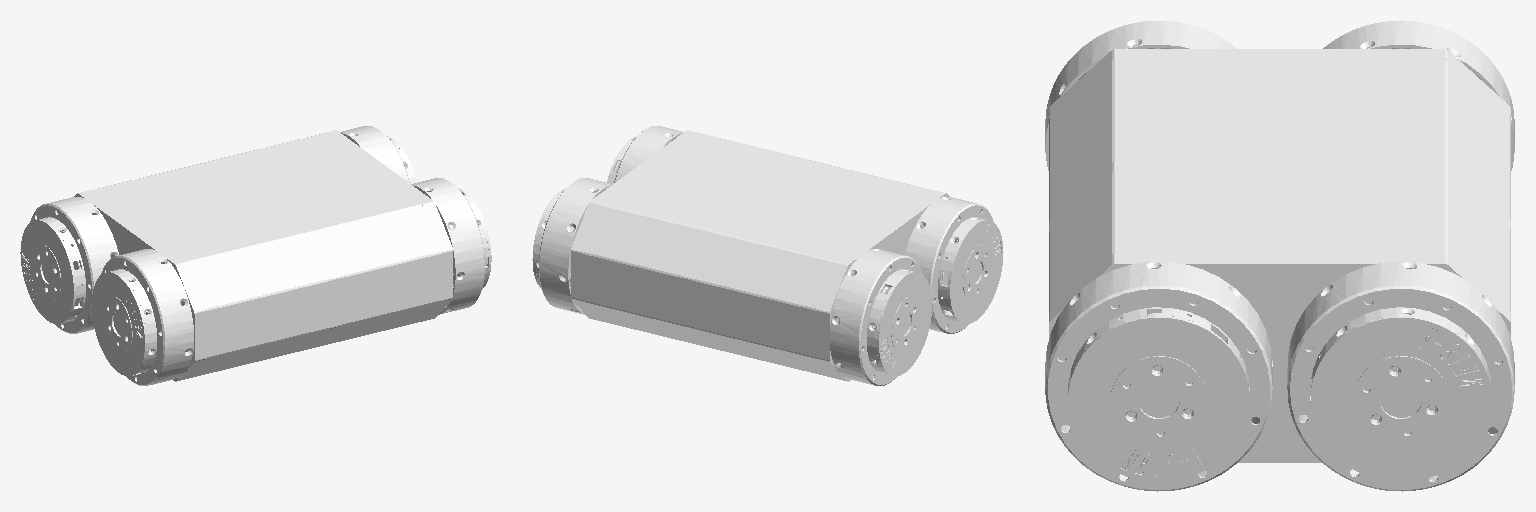
The robot description file, URDF, robot "cheetah_model":
<?xml version="1.0" ?>
<robot name="cheetah_model" >

  <link name="world_link"/>

  <joint name="world_joint" type="fixed">
    <parent link="world_link" />
    <child link="body_link" />
  </joint>

  <link name="body_link">
    <inertial>
      <origin xyz="4.7665E-11 -9.774E-11 7.8204E-09" rpy="0 0 0" />
      <mass value="25.117" />
      <inertia ixx="1.9268" ixy="2.1744E-07" ixz="6.0623E-11"
        iyy="0.39868" iyz="-7.9898E-07" izz="2.1621" />
    </inertial>
    <visual>
      <origin xyz="0 0 0" rpy="0 0 0" />
      <geometry>
        <mesh filename="package://cheetah_model/meshes/body_link.STL" />
      </geometry>
      <material name="">
        <color rgba="1 1 1 1" />
      </material>
    </visual>
    <collision>
      <origin xyz="0 0 0" rpy="0 0 0" />
      <geometry>
        <mesh filename="package://cheetah_model/meshes/body_link.STL" />
      </geometry>
    </collision>
  </link>
  <link name="LF_shoulder_link">
    <inertial>
      <origin xyz="-0.050197 1.6579E-09 0.025721" rpy="0 0 0" />
      <mass value="3.2973" />
      <inertia ixx="0.0075672" ixy="5.1432E-09" ixz="-3.4681E-09"
        iyy="0.0078331" iyz="2.7873E-09" izz="0.0045551" />
    </inertial>
    <visual>
      <origin xyz="0 0 0" rpy="0 0 0" />
      <geometry>
        <mesh filename="package://cheetah_model/meshes/LF_shoulder_link.STL" />
      </geometry>
      <material name="">
        <color rgba="1 0 0 1" />
      </material>
    </visual>
    <collision>
      <origin xyz="0 0 0" rpy="0 0 0" />
      <geometry>
        <mesh filename="package://cheetah_model/meshes/LF_shoulder_link.STL" />
      </geometry>
    </collision>
  </link>
  <joint name="body_to_LF_shoulder" type="revolute">
    <origin xyz="0.2 -0.3498 0" rpy="1.5708 0 1.5708" />
    <parent link="body_link" />
    <child link="LF_shoulder_link" />
    <axis xyz="1 0 0" />
    <limit lower="-1.57" upper="1.57"
      effort="0.0" velocity="1.0" />
    <dynamics damping="1" friction="1" />
  </joint>

  <link name="LF_hip_link">
    <inertial>
      <origin xyz="-0.05 -0.1259 0" rpy="0 0 0" />
      <mass value="9.0227" />
      <inertia ixx="0.13447" ixy="2.7733E-17" ixz="-4.1134E-18"
        iyy="0.020174" iyz="2.5177E-17" izz="0.13014" />
    </inertial>
    <visual>
      <origin xyz="0 0 0" rpy="0 0 0" />
      <geometry>
        <mesh filename="package://cheetah_model/meshes/LF_hip_link.STL" />
      </geometry>
      <material name="">
        <color rgba="0 1 0 1" />
      </material>
    </visual>
    <collision>
      <origin xyz="0 0 0" rpy="0 0 0" />
      <geometry>
        <mesh filename="package://cheetah_model/meshes/LF_hip_link.STL" />
      </geometry>
    </collision>
  </link>
  <joint name="LF_shoulder_to_LF_hip" type="revolute">
    <origin xyz="-0.050197 0 0.1" rpy="0 1.5708 0" />
    <parent link="LF_shoulder_link" />
    <child link="LF_hip_link" />
    <axis xyz="-1 0 0" />
    <limit lower="-3.14" upper="3.14"
      effort="0.0" velocity="1.0" />
    <dynamics damping="1" friction="1" />
  </joint>

  <link name="LF_knee_link">
    <inertial>
      <origin xyz="-0.0325 -0.1327 7.0855E-10" rpy="0 0 0" />
      <mass value="2.9673" />
      <inertia ixx="0.041846" ixy="1.8339E-10" ixz="3.4138E-09"
        iyy="0.0022039" iyz="3.2982E-10" izz="0.041328" />
    </inertial>
    <visual>
      <origin xyz="0 0 0" rpy="0 0 0" />
      <geometry>
        <mesh filename="package://cheetah_model/meshes/LF_knee_link.STL" />
      </geometry>
      <material name="">
        <color rgba="0 0 1 1" />
      </material>
    </visual>
    <collision>
      <origin xyz="0 0 0" rpy="0 0 0" />
      <geometry>
        <mesh filename="package://cheetah_model/meshes/LF_knee_link.STL" />
      </geometry>
    </collision>
  </link>
  <joint name="LF_hip_to_LF_knee" type="revolute">
    <origin xyz="-0.0175 -0.35 0" rpy="0 0 0" />
    <parent link="LF_hip_link" />
    <child link="LF_knee_link" />
    <axis xyz="-1 0 0" />
    <limit lower="-3.14" upper="3.14"
      effort="0.0" velocity="1.0" />
    <dynamics damping="1" friction="1" />
  </joint>

  <link name="RF_shoulder_link">
    <inertial>
      <origin xyz="-0.050197 4.7329E-09 0.025721" rpy="0 0 0" />
      <mass value="3.2973" />
      <inertia ixx="0.0075672" ixy="6.0059E-09" ixz="-3.3928E-09"
        iyy="0.0078331" iyz="2.6669E-09" izz="0.0045551" />
    </inertial>
    <visual>
      <origin xyz="0 0 0" rpy="0 0 0" />
      <geometry>
        <mesh filename="package://cheetah_model/meshes/RF_shoulder_link.STL" />
      </geometry>
      <material name="">
        <color rgba="1 0 0 1" />
      </material>
    </visual>
    <collision>
      <origin xyz="0 0 0" rpy="0 0 0" />
      <geometry>
        <mesh filename="package://cheetah_model/meshes/RF_shoulder_link.STL" />
      </geometry>
    </collision>
  </link>
  <joint name="body_to_RF_shoulder" type="revolute">
    <origin xyz="-0.2 -0.3498 0" rpy="-1.5708 0 1.5708" />
    <parent link="body_link" />
    <child link="RF_shoulder_link" />
    <axis xyz="-1 0 0" />
    <limit lower="-1.57" upper="1.57"
      effort="0.0" velocity="1.0" />
    <dynamics damping="1" friction="1" />
  </joint>

  <link name="RF_hip_link">
    <inertial>
      <origin xyz="-0.05 -0.125901750874251 0" rpy="0 0 0" />
      <mass value="9.02267120345913" />
      <inertia ixx="0.134474751410522" ixy="-1.00856843872561E-18" ixz="-3.2778892928792E-18"
        iyy="0.0201741931777721" iyz="-2.89770588449339E-18" izz="0.130137705098105" />
    </inertial>
    <visual>
      <origin xyz="0 0 0" rpy="0 0 0" />
      <geometry>
        <mesh filename="package://cheetah_model/meshes/RF_hip_link.STL" />
      </geometry>
      <material name="">
        <color rgba="0 1 0 1" />
      </material>
    </visual>
    <collision>
      <origin xyz="0 0 0" rpy="0 0 0" />
      <geometry>
        <mesh filename="package://cheetah_model/meshes/RF_hip_link.STL" />
      </geometry>
    </collision>
  </link>
  <joint name="RF_shoulder_to_RF_hip" type="revolute">
    <origin xyz="-0.050197 0 0.1" rpy="3.1416 1.5708 0" />
    <parent link="RF_shoulder_link" />
    <child link="RF_hip_link" />
    <axis xyz="1 0 0" />
    <limit lower="-3.14" upper="3.14"
           effort="0.0" velocity="1.0" />
    <dynamics damping="1" friction="1" />
  </joint>

  <link name="RF_knee_link">
    <inertial>
      <origin xyz="-0.0324999996259642 -0.132703983194415 7.08550385031259E-10" rpy="0 0 0" />
      <mass value="2.96729116852791" />
      <inertia ixx="0.0418458834907561" ixy="1.83391853856617E-10" ixz="3.41384812112721E-09"
        iyy="0.00220392060914795" iyz="3.29819463915723E-10" izz="0.041327893755322" />
    </inertial>
    <visual>
      <origin xyz="0 0 0" rpy="0 0 0" />
      <geometry>
        <mesh filename="package://cheetah_model/meshes/RF_knee_link.STL" />
      </geometry>
      <material name="">
        <color rgba="0 0 1 1" />
      </material>
    </visual>
    <collision>
      <origin xyz="0 0 0" rpy="0 0 0" />
      <geometry>
        <mesh filename="package://cheetah_model/meshes/RF_knee_link.STL" />
      </geometry>
    </collision>
  </link>
  <joint name="RF_hip_to_RF_knee" type="revolute">
    <origin xyz="-0.0175 -0.35 0" rpy="0 0 0" />
    <parent link="RF_hip_link" />
    <child link="RF_knee_link" />
    <axis xyz="1 0 0" />
    <limit lower="-3.14" upper="3.14"
      effort="0.0" velocity="1.0" />
    <dynamics damping="1" friction="1" />
  </joint>

  <link name="LH_shoulder_link">
    <inertial>
      <origin xyz="-0.0501973749554487 -4.56687991009661E-09 -0.025721456770399" rpy="0 0 0" />
      <mass value="3.29729555848642" />
      <inertia ixx="0.00756715122480539" ixy="-5.34881333358175E-09" ixz="3.67813128999948E-09"
        iyy="0.00783306249669744" iyz="2.67306826420829E-09" izz="0.00455513672380048" />
    </inertial>
    <visual>
      <origin xyz="0 0 0" rpy="0 0 0" />
      <geometry>
        <mesh filename="package://cheetah_model/meshes/LH_shoulder_link.STL" />
      </geometry>
      <material name="">
        <color rgba="1 0 0 1" />
      </material>
    </visual>
    <collision>
      <origin xyz="0 0 0" rpy="0 0 0" />
      <geometry>
        <mesh filename="package://cheetah_model/meshes/LH_shoulder_link.STL" />
      </geometry>
    </collision>
  </link>
  <joint name="body_to_LH_shoulder" type="revolute">
    <origin xyz="0.2 0.3498 0" rpy="1.5708 0 -1.5708" />
    <parent link="body_link" />
    <child link="LH_shoulder_link" />
    <axis xyz="1 0 0" />
    <limit lower="-1.57" upper="1.57"
      effort="0.0" velocity="1.0" />
    <dynamics damping="1" friction="1" />
  </joint>

  <link name="LH_hip_link">
    <inertial>
      <origin xyz="-0.05 -0.125901750874251 -5.55111512312578E-17" rpy="0 0 0" />
      <mass value="9.02267120345913" />
      <inertia ixx="0.134474751410522" ixy="3.07558660643736E-17" ixz="-7.77149275029767E-18"
        iyy="0.0201741931777721" iyz="1.96934042288402E-17" izz="0.130137705098105" />
    </inertial>
    <visual>
      <origin xyz="0 0 0" rpy="0 0 0" />
      <geometry>
        <mesh filename="package://cheetah_model/meshes/LH_hip_link.STL" />
      </geometry>
      <material name="">
        <color rgba="0 1 0 1" />
      </material>
    </visual>
    <collision>
      <origin xyz="0 0 0" rpy="0 0 0" />
      <geometry>
        <mesh filename="package://cheetah_model/meshes/LH_hip_link.STL" />
      </geometry>
    </collision>
  </link>
  <joint name="LH_shoulder_to_LH_hip" type="revolute">
    <origin xyz="-0.050197 0 -0.1" rpy="0 -1.5708 0" />
    <parent link="LH_shoulder_link" />
    <child link="LH_hip_link" />
    <axis xyz="-1 0 0" />
    <limit lower="-3.14" upper="3.14"
      effort="0.0" velocity="1.0" />
    <dynamics damping="1" friction="1" />
  </joint>

  <link name="LH_knee_link">
    <inertial>
      <origin xyz="-0.0324999996259642 -0.132703983194415 7.08550274008957E-10" rpy="0 0 0" />
      <mass value="2.96729116852791" />
      <inertia ixx="0.0418458834907562" ixy="1.83391852955885E-10" ixz="3.413848122736E-09"
        iyy="0.00220392060914796" iyz="3.29819458134421E-10" izz="0.041327893755322" />
    </inertial>
    <visual>
      <origin xyz="0 0 0" rpy="0 0 0" />
      <geometry>
        <mesh filename="package://cheetah_model/meshes/LH_knee_link.STL" />
      </geometry>
      <material name="">
        <color rgba="0 0 1 1" />
      </material>
    </visual>
    <collision>
      <origin xyz="0 0 0" rpy="0 0 0" />
      <geometry>
        <mesh filename="package://cheetah_model/meshes/LH_knee_link.STL" />
      </geometry>
    </collision>
  </link>
  <joint name="LH_hip_to_LH_knee" type="revolute">
    <origin xyz="-0.0175 -0.35 0" rpy="0 0 0" />
    <parent link="LH_hip_link" />
    <child link="LH_knee_link" />
    <axis xyz="-1 0 0" />
    <limit lower="-3.14" upper="3.14"
           effort="0.0" velocity="1.0" />
    <dynamics damping="1" friction="1" />
  </joint>

  <link name="RH_shoulder_link">
    <inertial>
      <origin xyz="-0.0501973799779306 -1.52221795247363E-09 -0.025721453293929" rpy="0 0 0" />
      <mass value="3.29729447126422" />
      <inertia ixx="0.0075671504774973" ixy="-5.26651026494318E-09" ixz="3.48220543176805E-09"
        iyy="0.00783306122929005" iyz="2.78554516211265E-09" izz="0.00455513495958608" />
    </inertial>
    <visual>
      <origin xyz="0 0 0" rpy="0 0 0" />
      <geometry>
        <mesh filename="package://cheetah_model/meshes/RH_shoulder_link.STL" />
      </geometry>
      <material name="">
        <color rgba="1 0 0 1" />
      </material>
    </visual>
    <collision>
      <origin xyz="0 0 0" rpy="0 0 0" />
      <geometry>
        <mesh filename="package://cheetah_model/meshes/RH_shoulder_link.STL" />
      </geometry>
    </collision>
  </link>
  <joint name="body_to_RH_shoulder" type="revolute">
    <origin xyz="-0.2 0.3498 0" rpy="-1.5708 0 -1.5708" />
    <parent link="body_link" />
    <child link="RH_shoulder_link" />
    <axis xyz="-1 0 0" />
    <limit lower="-1.57" upper="1.57"
      effort="0.0" velocity="1.0" />
    <dynamics damping="1" friction="1" />
  </joint>

  <link name="RH_hip_link">
    <inertial>
      <origin xyz="-0.05 -0.125901750874251 -5.55111512312578E-17" rpy="0 0 0" />
      <mass value="9.02267120345913" />
      <inertia ixx="0.134474751410522" ixy="-5.34419819342539E-19" ixz="-3.36867247431082E-18"
        iyy="0.0201741931777721" iyz="-3.31583569187149E-18" izz="0.130137705098105" />
    </inertial>
    <visual>
      <origin xyz="0 0 0" rpy="0 0 0" />
      <geometry>
        <mesh filename="package://cheetah_model/meshes/RH_hip_link.STL" />
      </geometry>
      <material name="">
        <color rgba="0 1 0 1" />
      </material>
    </visual>
    <collision>
      <origin xyz="0 0 0" rpy="0 0 0" />
      <geometry>
        <mesh filename="package://cheetah_model/meshes/RH_hip_link.STL" />
      </geometry>
    </collision>
  </link>
  <joint name="RH_shoulder_to_RH_hip" type="revolute">
    <origin xyz="-0.050197 0 -0.1" rpy="3.1416 -1.5708 0" />
    <parent link="RH_shoulder_link" />
    <child link="RH_hip_link" />
    <axis xyz="1 0 0" />
    <limit lower="-3.14" upper="3.14"
      effort="0.0" velocity="1.0" />
    <dynamics damping="1" friction="1" />
  </joint>

  <link name="RH_knee_link">
    <inertial>
      <origin xyz="-0.0324999996259642 -0.132703983194415 7.08550274008957E-10" rpy="0 0 0" />
      <mass value="2.96729116852791" />
      <inertia ixx="0.0418458834907561" ixy="1.8339185505944E-10" ixz="3.41384812216053E-09"
        iyy="0.00220392060914795" iyz="3.29819463826677E-10" izz="0.041327893755322" />
    </inertial>
    <visual>
      <origin xyz="0 0 0" rpy="0 0 0" />
      <geometry>
        <mesh filename="package://cheetah_model/meshes/RH_knee_link.STL" />
      </geometry>
      <material name="">
        <color rgba="0 0 1 1" />
      </material>
    </visual>
    <collision>
      <origin xyz="0 0 0" rpy="0 0 0" />
      <geometry>
        <mesh filename="package://cheetah_model/meshes/RH_knee_link.STL" />
      </geometry>
    </collision>
  </link>
  <joint name="RH_hip_to_RH_knee" type="revolute">
    <origin xyz="-0.0175 -0.35 0" rpy="0 0 0" />
    <parent link="RH_hip_link" />
    <child link="RH_knee_link" />
    <axis xyz="1 0 0" />
    <limit lower="-3.14" upper="3.14"
      effort="0.0" velocity="1.0" />
    <dynamics damping="1" friction="1" />
  </joint>
</robot>

--- What the picture shows (computed from the rendered views, not written in the file) ---
Views: 3 orthographic renders of the robot side by side, from view 1: azimuth 30°, elevation 25°; view 2: azimuth 150°, elevation 25°; view 3: azimuth 270°, elevation 25°.
Robot: cheetah_model — 14 links, 13 joints (12 revolute, 1 fixed); root link world_link; default pose: all joints at 0.
Links seen in each view (by area): view 1: body_link; view 2: body_link; view 3: body_link.
Boxes of the visible links, <box> form: body_link: <box>20,126,491,385</box>; body_link: <box>532,126,1003,385</box>; body_link: <box>1045,20,1514,491</box>.
Size in the robot's own frame: 0.282 by 0.1939 by 0.0939 metres.
1 mesh visuals loaded from 13 distinct referenced files (1 binary STL); not drawn: 12 (reference not matched to a file when rendering).